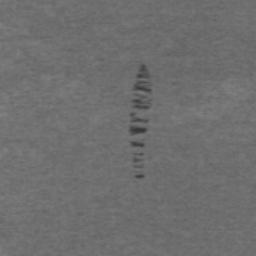Secondary rust skin: (129, 64, 152, 180)
